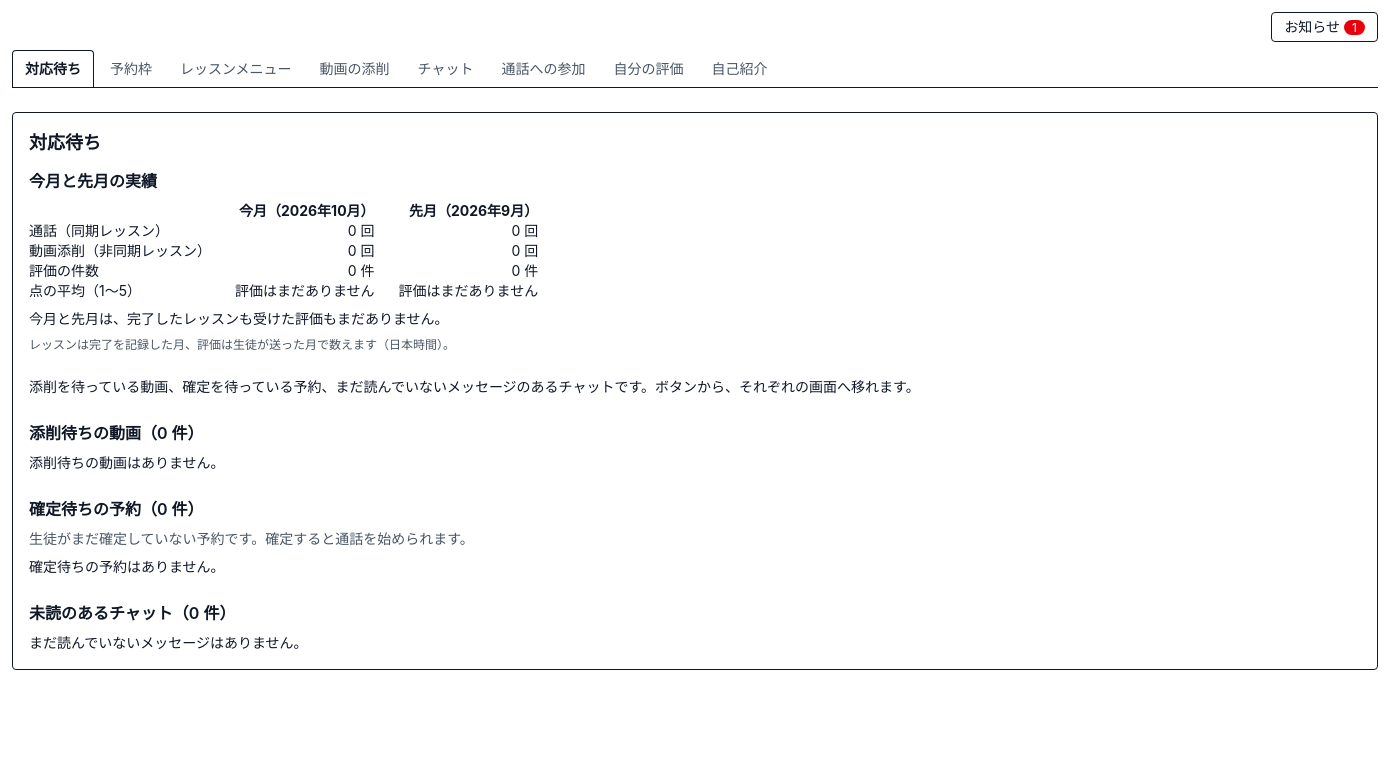
Test: コーチのお知らせ › このアプリが知らない種類の行は押せない
Click the button "お知らせ1" at point(1325, 27), box [1271,12,1378,42]
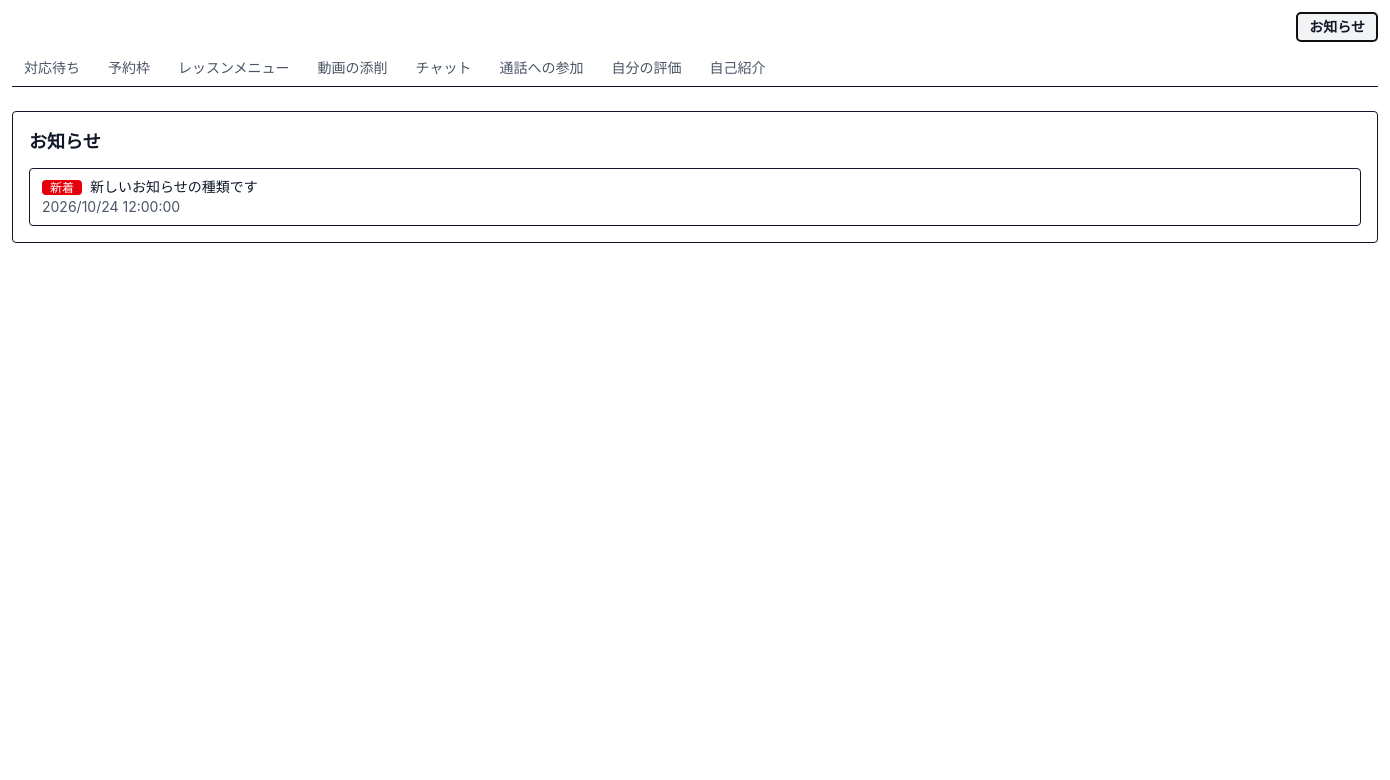
Expected: the text "新しいお知らせの種類です" is shown, [90,178,258,195]
